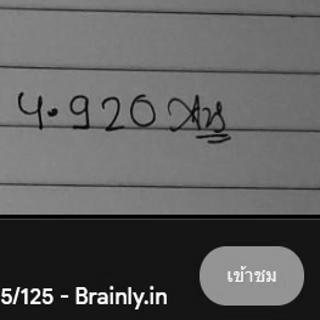.: (43, 106, 61, 119)
0: (130, 95, 160, 130)
1: (20, 285, 29, 305)
2: (99, 96, 125, 135), (29, 283, 44, 307)
4: (17, 89, 45, 132)
5: (43, 284, 58, 306), (1, 285, 13, 307)
9: (67, 92, 92, 134)
